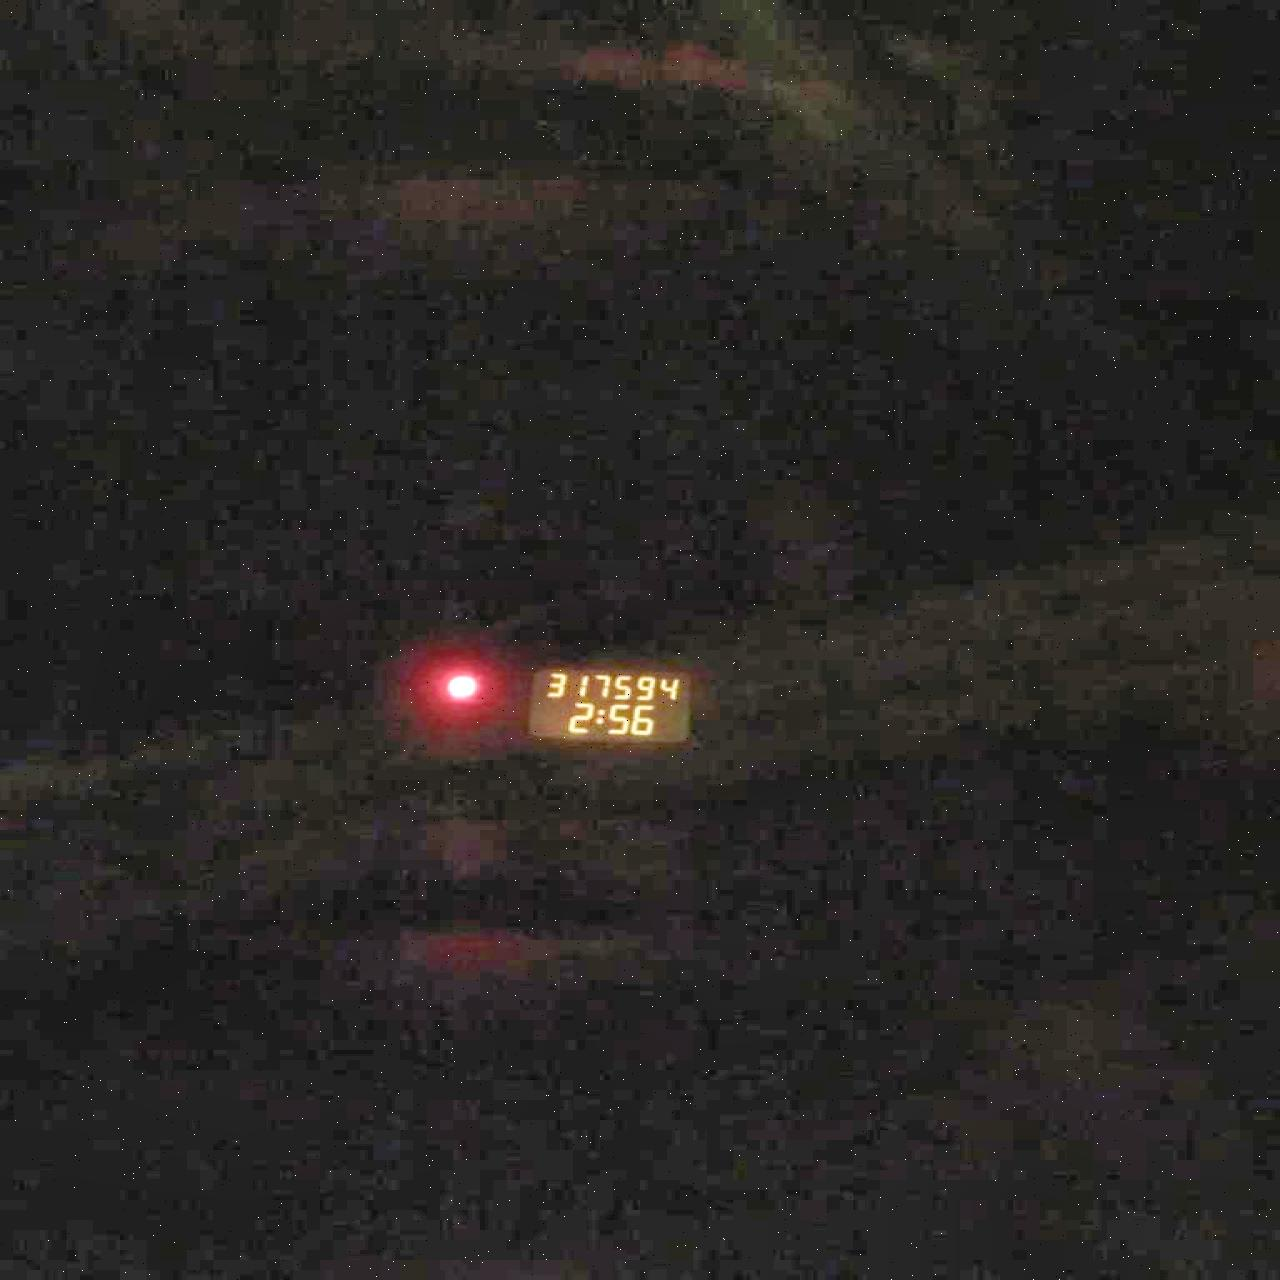1: (576, 673, 590, 696)
2: (565, 700, 593, 733)
3: (543, 670, 567, 697)
4: (656, 676, 680, 700)
5: (607, 701, 628, 735), (612, 674, 632, 699)
6: (629, 703, 655, 735)
7: (593, 672, 610, 697)
9: (633, 674, 655, 700)
X: (593, 707, 605, 723)
odometer: (520, 662, 695, 747)
